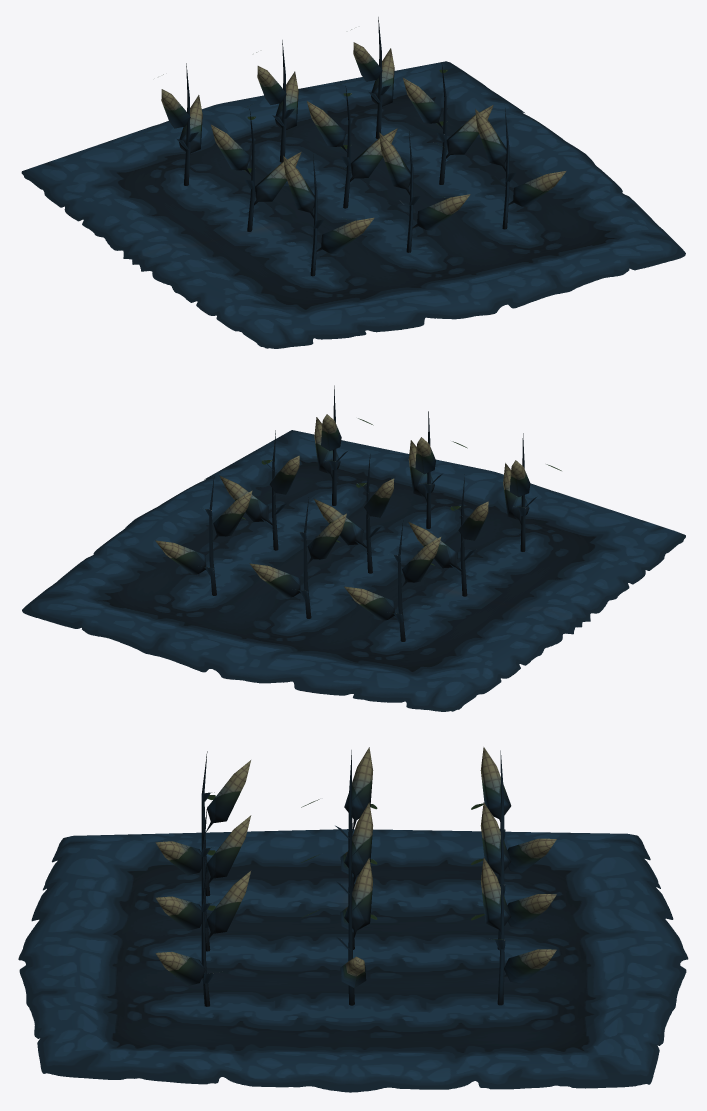
The model's file is Paddy3.FBX.
The picture shows the model from 3 angles, top to bottom: view 1: azimuth 30°, elevation 25°; view 2: azimuth 150°, elevation 25°; view 3: azimuth 270°, elevation 25°; orthographic projection. The views are drawn at different scales.
Parts seen in each view (by area): view 1: Line1572, Paddy3; view 2: Line1572, Paddy3; view 3: Line1572, Paddy3.
Part boxes in pixels (<box>): Line1572: <box>21,61,685,348</box>; Paddy3: <box>144,17,566,276</box>; Line1572: <box>22,430,685,711</box>; Paddy3: <box>155,385,561,641</box>; Line1572: <box>18,829,688,1092</box>; Paddy3: <box>155,747,556,1006</box>.
Bounding box in the file's own units: 274 × 74 × 296.
